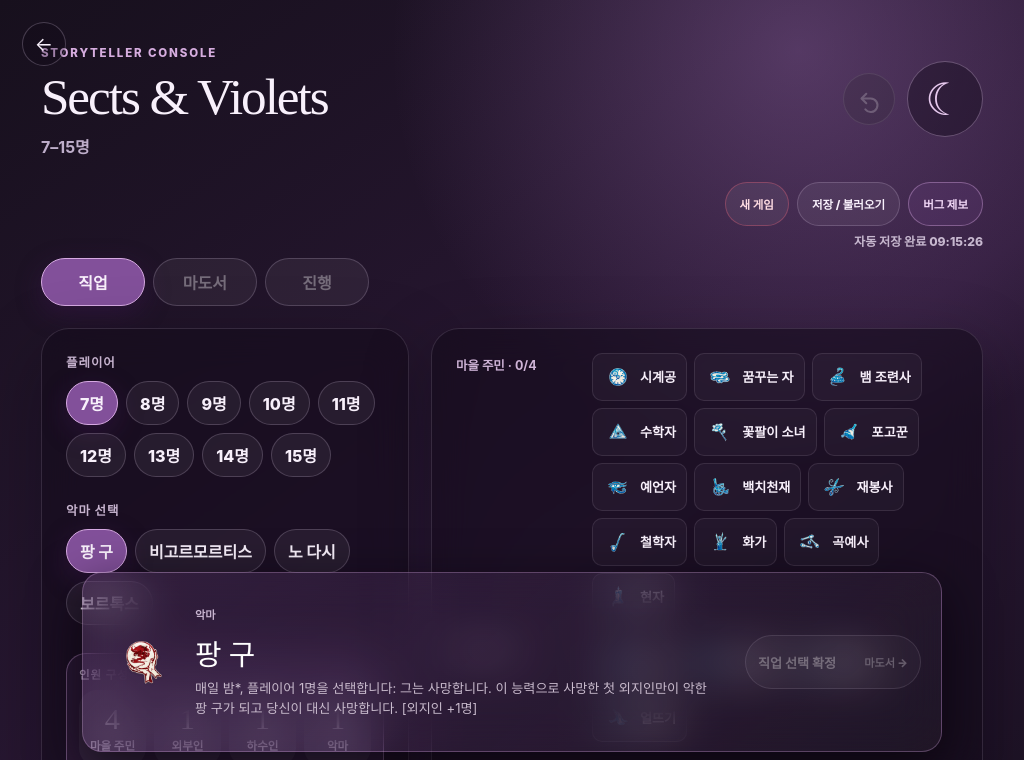
Test case: keeps copy and file recovery when an email recipient is unavailable
Click the button "버그 제보" at point(946, 204), box top-left (908, 182), bottom-right (983, 226)
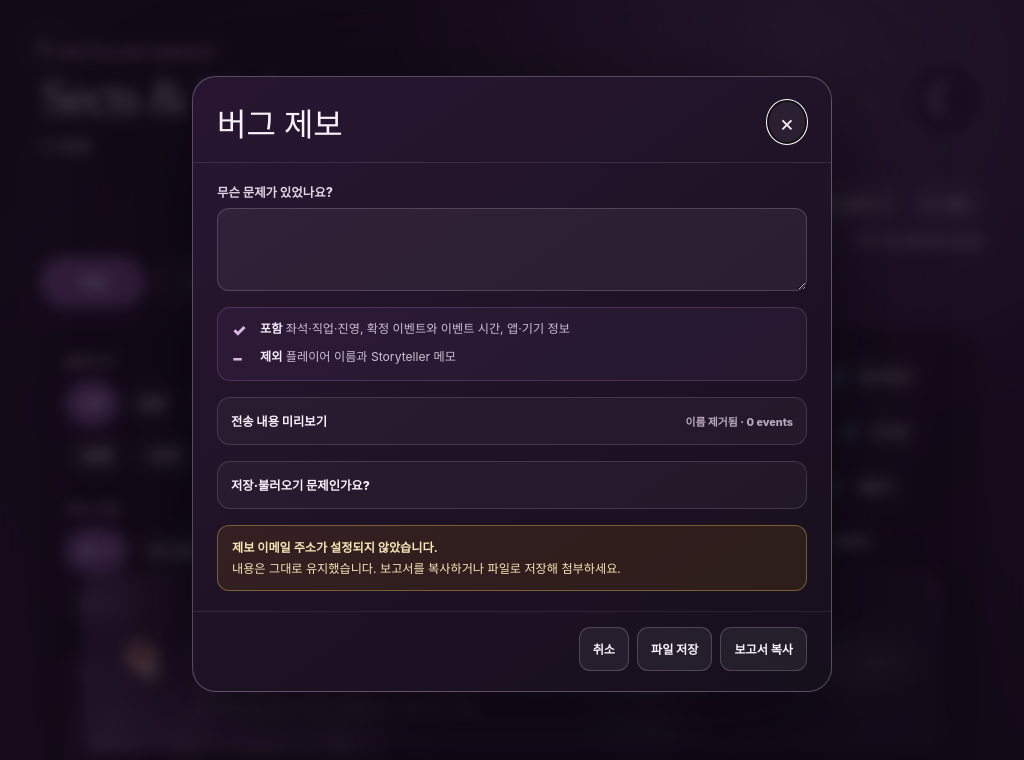
expect the text "제보 이메일 주소가 설정되지 않았습니다." is shown: met, box top-left (232, 540), bottom-right (438, 555)
expect the button "보고서 복사" is shown: met, box top-left (720, 627), bottom-right (807, 671)
expect the button "파일 저장" is shown: met, box top-left (637, 627), bottom-right (712, 671)
